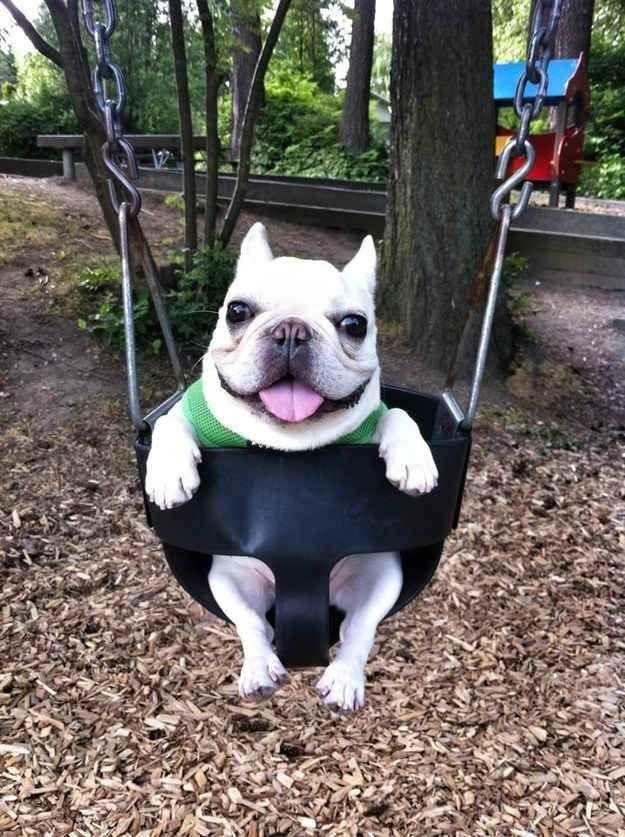adult_dog: (142, 215, 441, 713)
